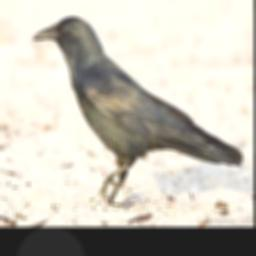Crow: (29, 13, 244, 204)
